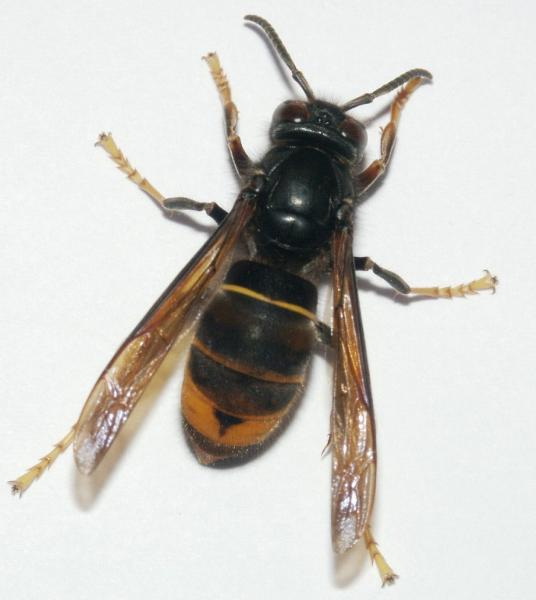hornet: (121, 31, 455, 536)
